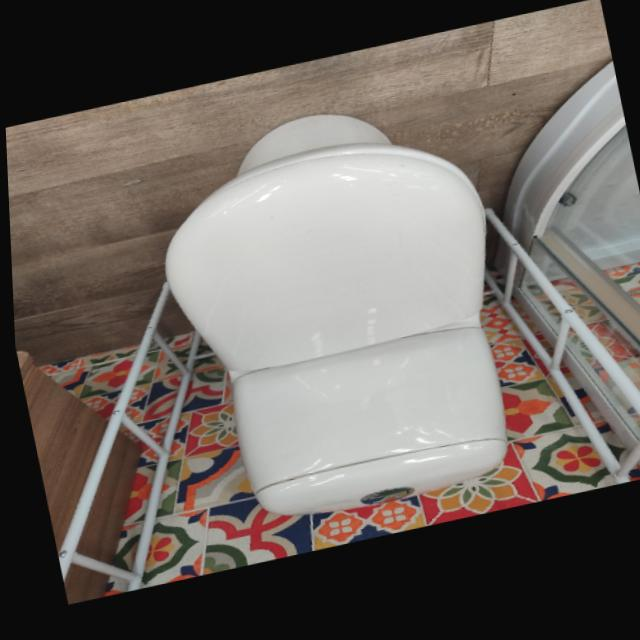toilet: (137, 85, 538, 546)
